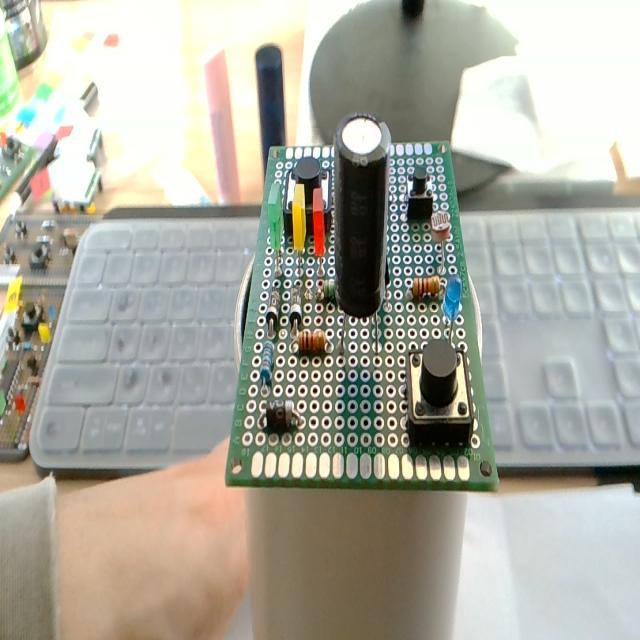Electrolytic capacitor: (330, 117, 390, 367)
cds: (431, 210, 452, 273)
diode: (262, 399, 303, 434), (266, 283, 280, 335), (289, 284, 302, 332)
led: (268, 180, 284, 276), (292, 187, 307, 286), (312, 188, 326, 292), (443, 273, 463, 343)
resistor: (408, 274, 443, 303), (298, 329, 326, 354), (260, 340, 275, 386)
switch: (405, 340, 475, 449), (284, 159, 332, 243), (406, 166, 433, 222)
